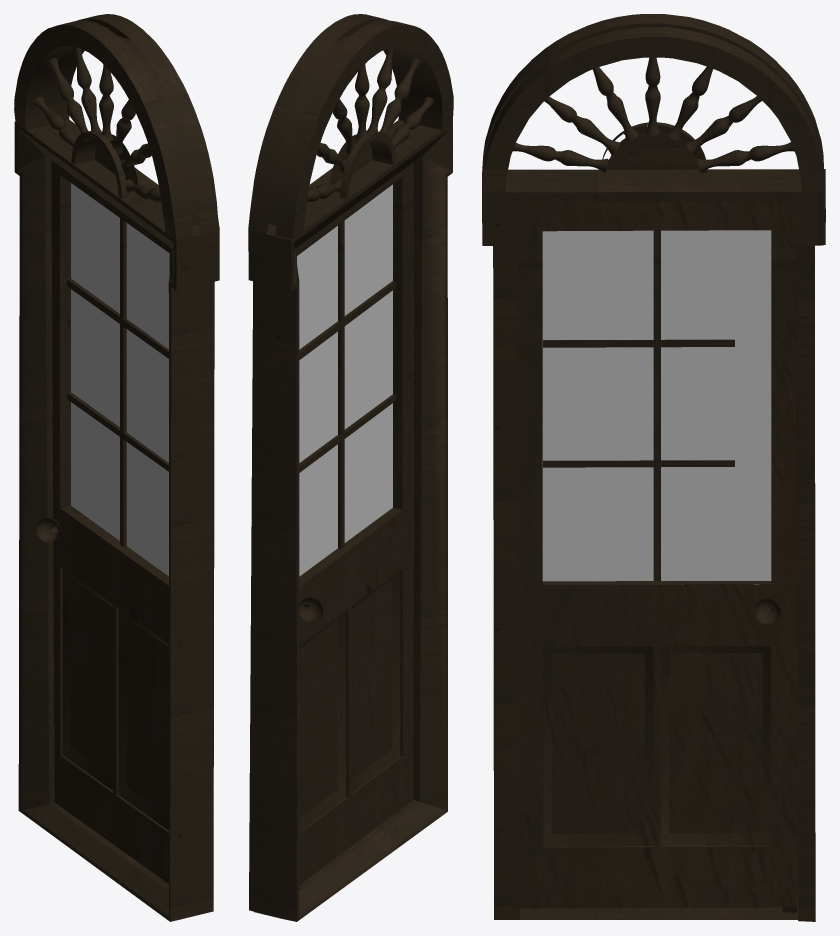
Rendered from balcony_door.obj.
The picture shows the model from 3 angles, left to right: view 1: azimuth 30°, elevation 25°; view 2: azimuth 150°, elevation 25°; view 3: azimuth 270°, elevation 25°; orthographic projection. The views are drawn at different scales.
Parts seen in each view (by area): view 1: Frame, Leaf, Glass, Arch, Spindles; view 2: Frame, Leaf, Glass, Arch, Spindles; view 3: Leaf, Glass, Frame, Arch, Spindles.
Boxes of the visible parts, left/top/right/bottom form: Frame: left=14, top=119, right=219, bottom=921; Leaf: left=35, top=160, right=172, bottom=883; Glass: left=71, top=183, right=169, bottom=576; Arch: left=14, top=14, right=219, bottom=240; Spindles: left=33, top=46, right=161, bottom=202; Frame: left=248, top=120, right=452, bottom=921; Leaf: left=295, top=162, right=413, bottom=885; Glass: left=297, top=184, right=392, bottom=576; Arch: left=248, top=14, right=453, bottom=239; Spindles: left=307, top=46, right=433, bottom=201; Leaf: left=518, top=191, right=797, bottom=908; Glass: left=542, top=230, right=771, bottom=584; Frame: left=482, top=169, right=825, bottom=921; Arch: left=482, top=14, right=825, bottom=192; Spindles: left=513, top=57, right=794, bottom=172.
Size of the model in its own units: 22.1 by 260 by 91.94.
Materials: 2 (1 with a texture image).
